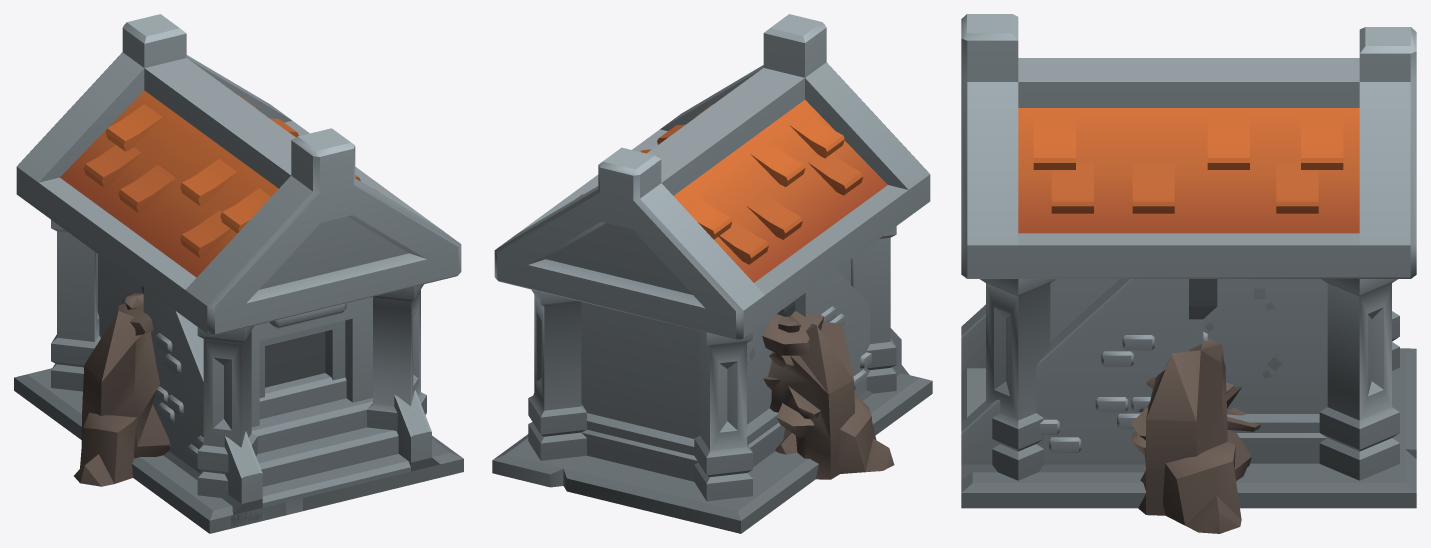
Rendered from props.glb.
3 renders of one model, left to right at view 1: azimuth 30°, elevation 25°; view 2: azimuth 150°, elevation 25°; view 3: azimuth 270°, elevation 25°, orthographic. The views are drawn at different scales.
Visible parts, largest first — view 1: crypt, stairs, rubble_large; view 2: crypt, rubble_large, stairs; view 3: crypt, stairs, rubble_large, wall.
Part boxes in pixels (bbox=[...]): crypt: bbox=[14, 14, 463, 533]; stairs: bbox=[143, 288, 439, 528]; rubble_large: bbox=[74, 293, 170, 486]; crypt: bbox=[492, 14, 932, 533]; rubble_large: bbox=[533, 311, 894, 479]; stairs: bbox=[795, 270, 909, 400]; crypt: bbox=[961, 14, 1416, 508]; stairs: bbox=[961, 279, 1188, 479]; rubble_large: bbox=[1130, 338, 1260, 533]; wall: bbox=[1189, 279, 1217, 348].
Size of the model in its own units: 8.13 by 8.91 by 8.
6 materials, 6 textured.
